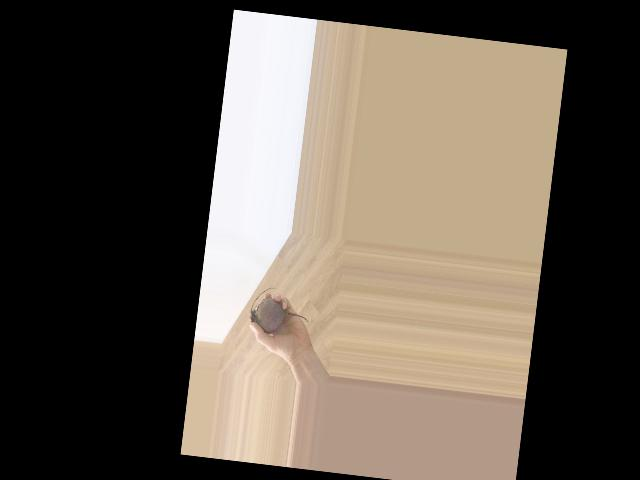beet: (247, 284, 312, 337)
